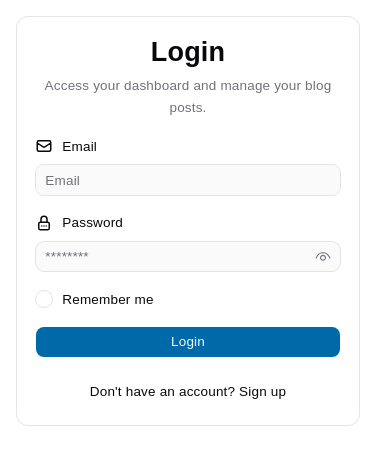
Auth Page › toggles between login and signup modes
Step 1. Click the button "Don't have an account? Sign up" → (188, 392), box [35,376,341,407]
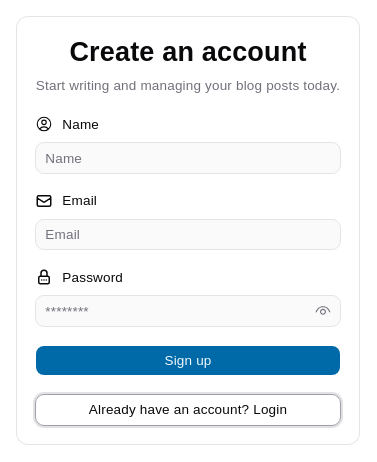
Expected: the text "Create an account" is shown, [69,37,306,67]
Expected: the field labelled "Name" is shown, [35,142,341,174]
Step 2. Click the button "Already have an account? Login" → (188, 410), box [35,394,341,426]
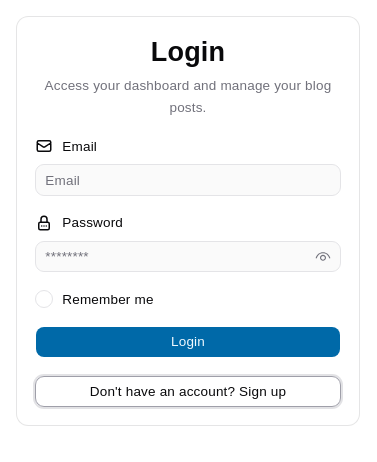
Expected: the button "Login" is shown, [35,326,341,358]
Expected: the label labelled "Name" is gone
